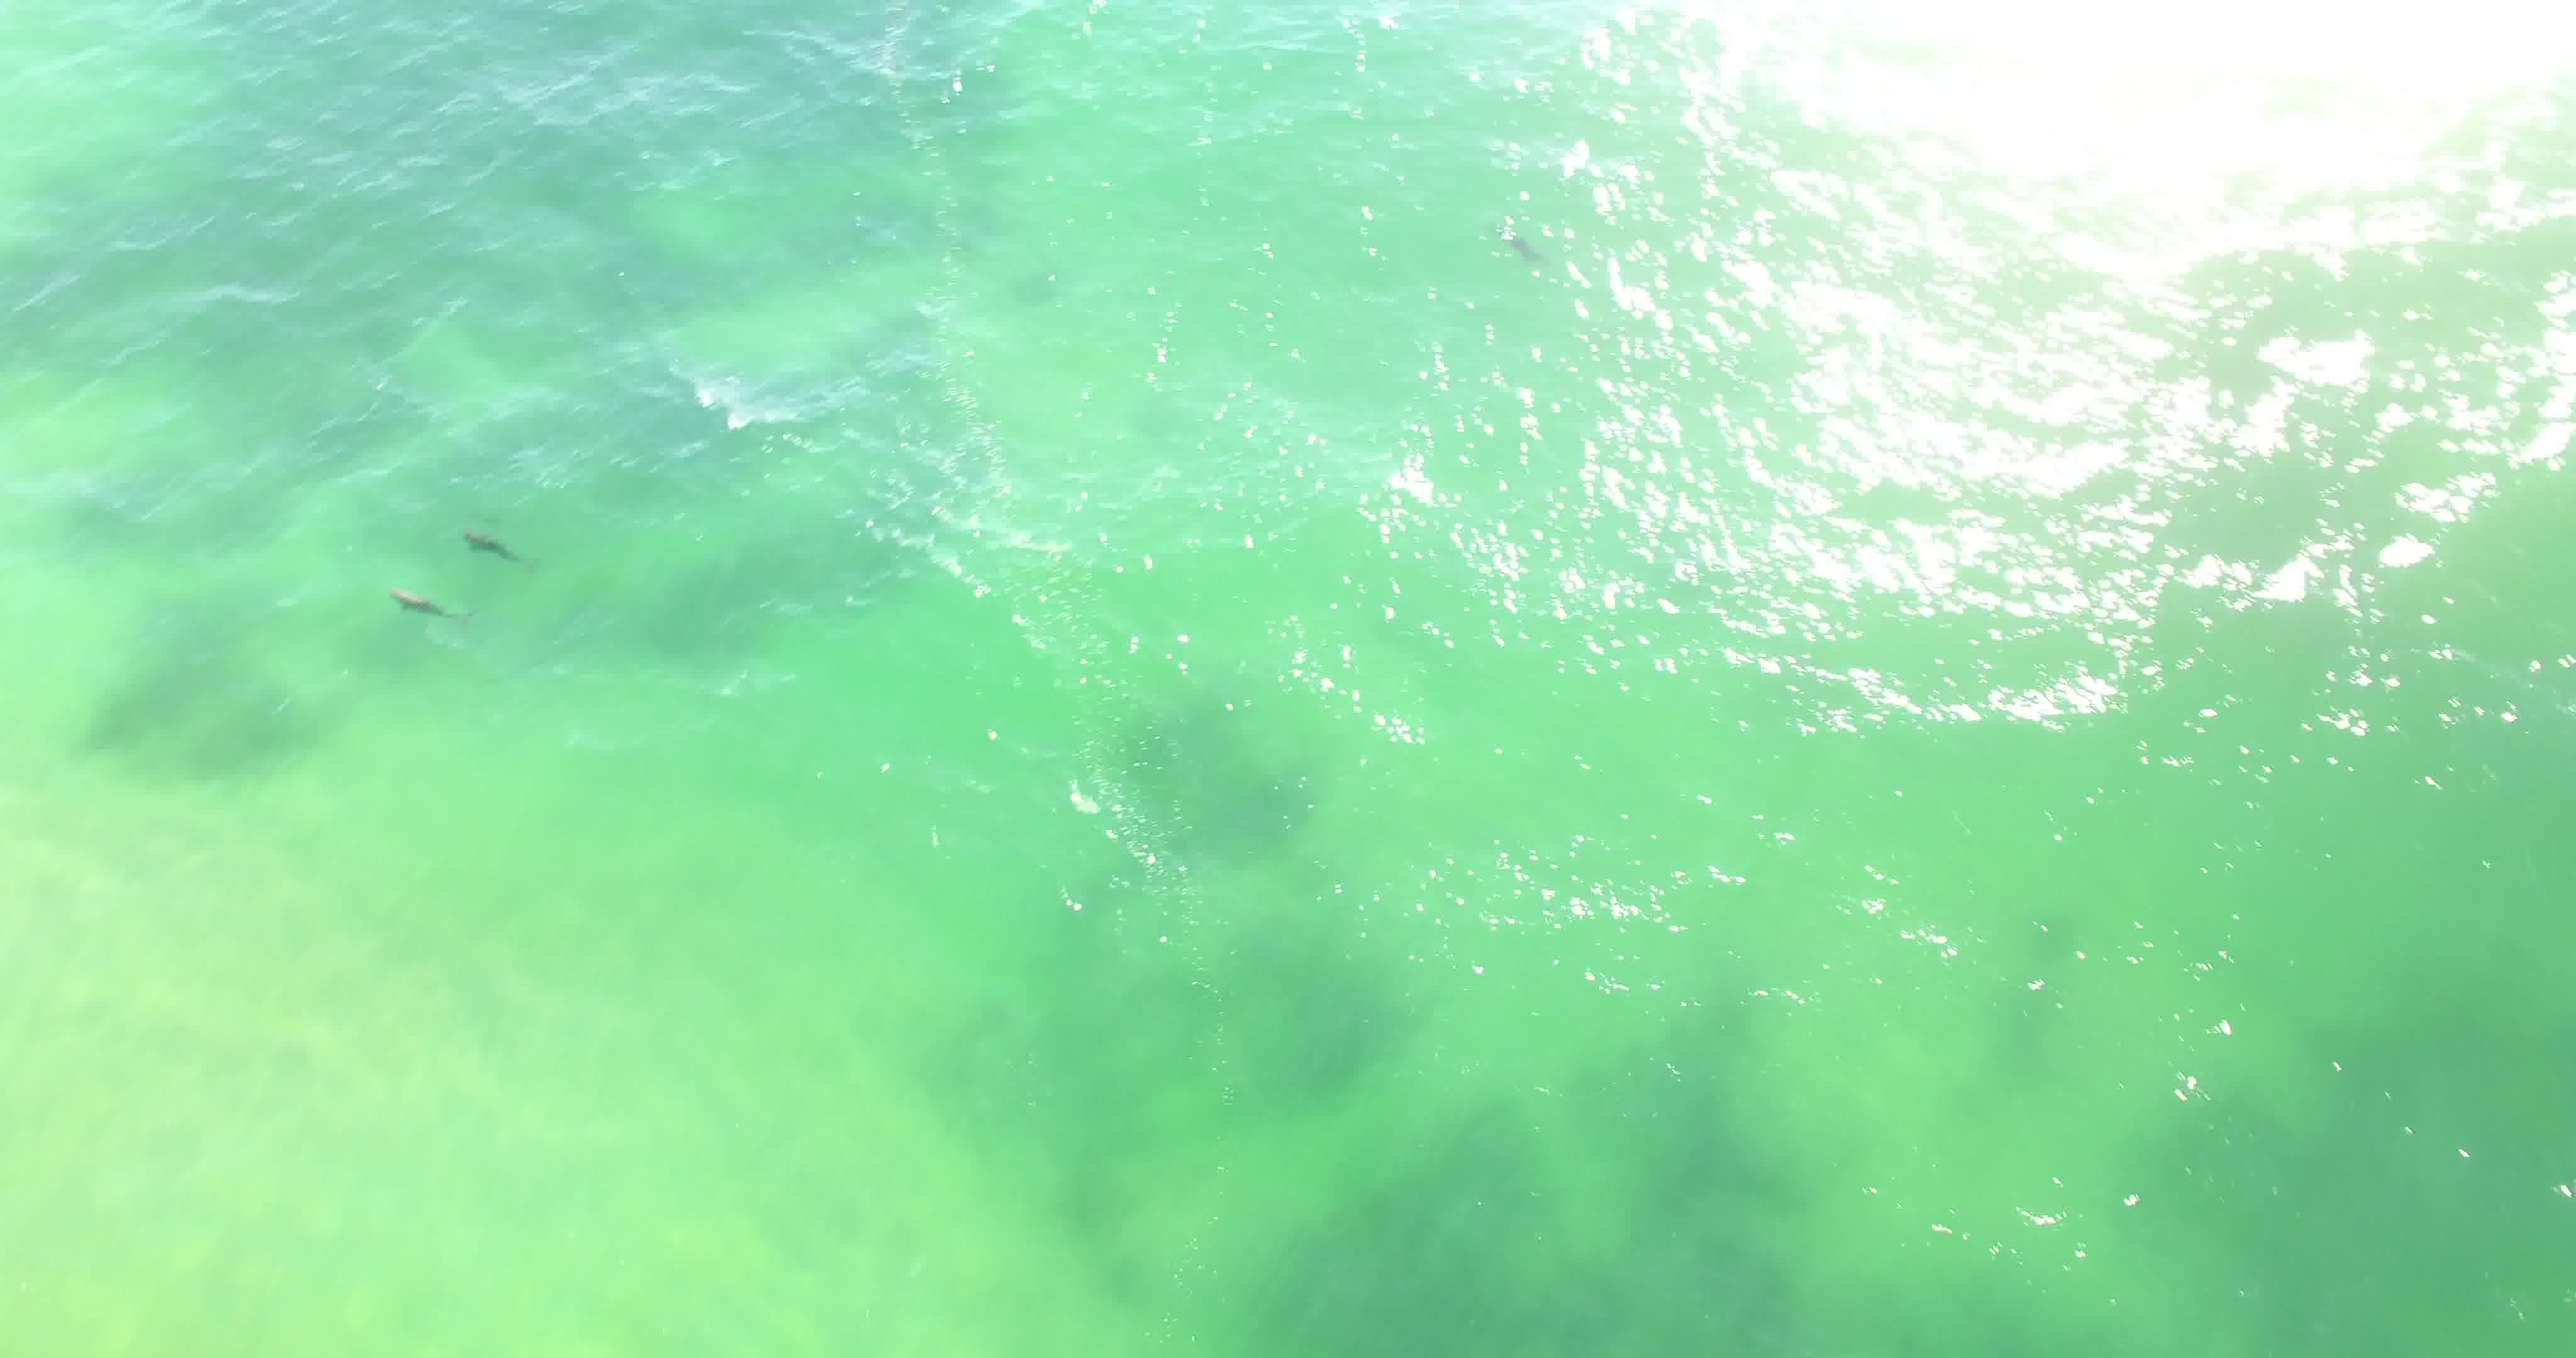dolphin: (438, 492, 559, 588), (371, 559, 469, 630), (1487, 211, 1567, 290)
